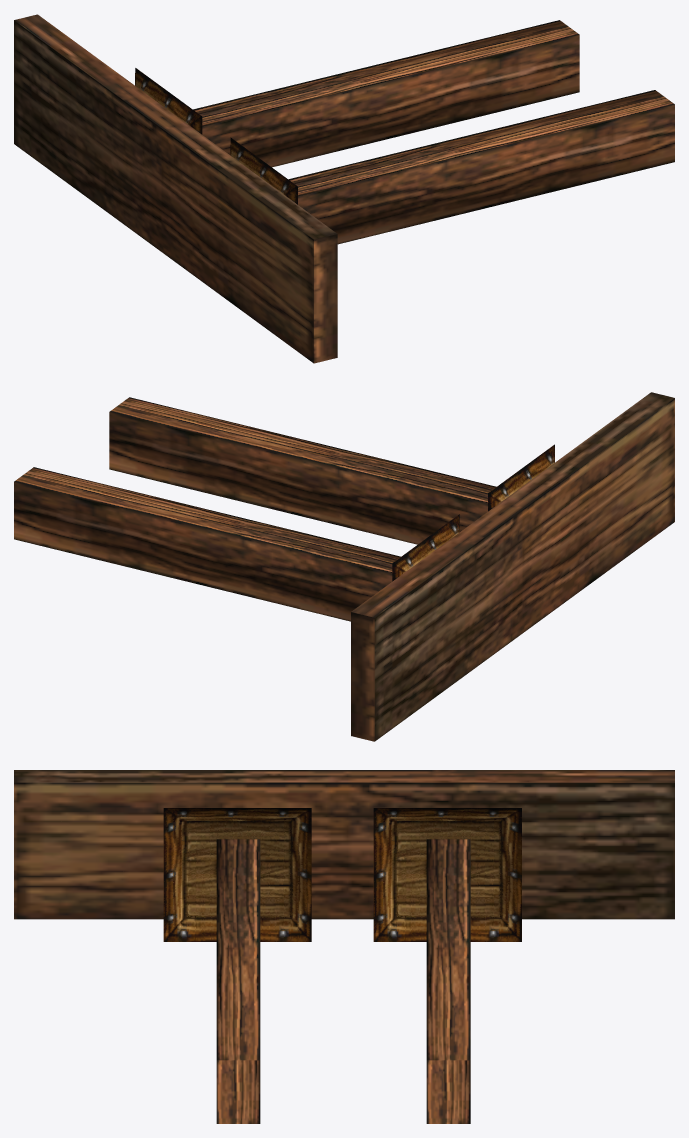
Rendered from INST_WH_PUSHPLATFORM_01.fbx.
The picture shows the model from 3 angles, top to bottom: view 1: azimuth 30°, elevation 25°; view 2: azimuth 150°, elevation 25°; view 3: azimuth 270°, elevation 25°; orthographic projection. The views are drawn at different scales.
Visible parts, largest first — view 1: INST_WH_PUSHPLATFORM_01; view 2: INST_WH_PUSHPLATFORM_01; view 3: INST_WH_PUSHPLATFORM_01.
Boxes of the visible parts, left/top/right/bottom form: INST_WH_PUSHPLATFORM_01: left=14, top=14, right=674, bottom=363; INST_WH_PUSHPLATFORM_01: left=14, top=392, right=674, bottom=741; INST_WH_PUSHPLATFORM_01: left=14, top=770, right=674, bottom=1123.
Bounding box in the file's own units: 21028 × 5805 × 24117.
3 materials, 3 textured.
